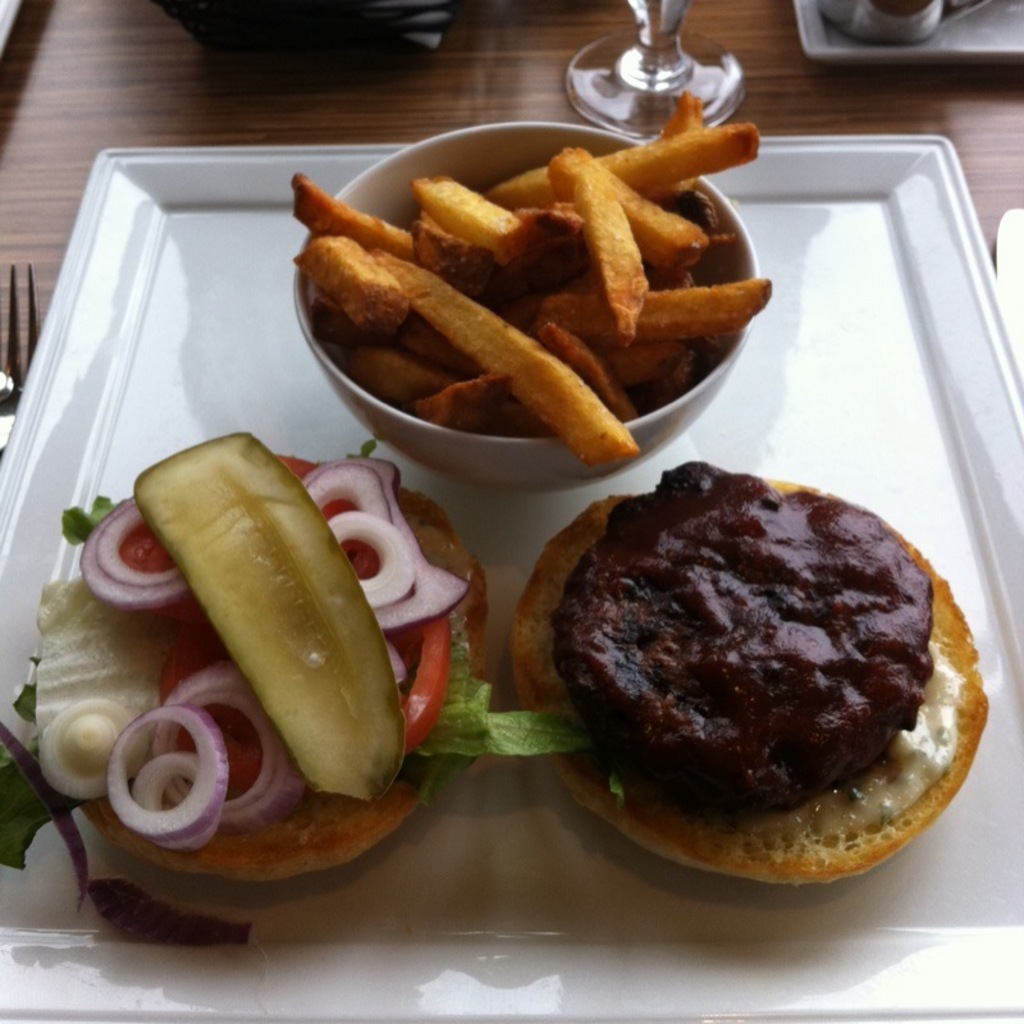French fries: (280, 80, 780, 478)
